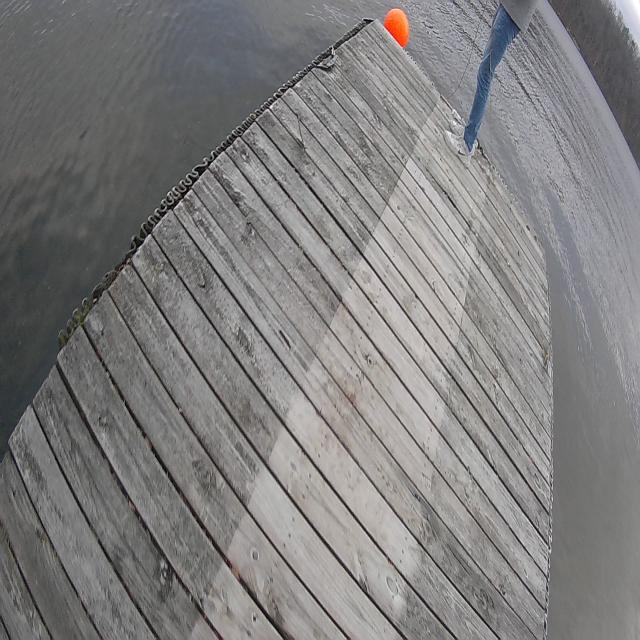Buoy: (382, 5, 411, 51)
